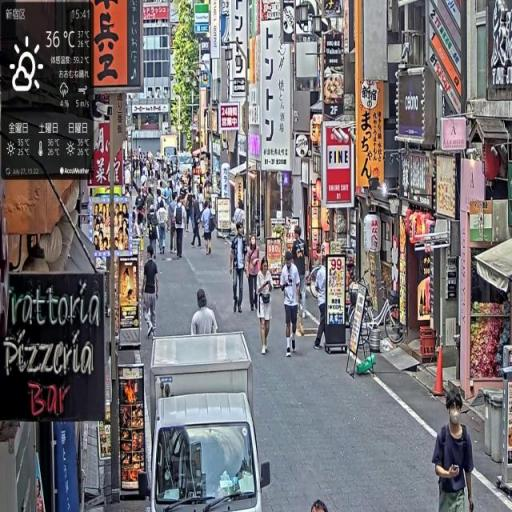person: (432, 385, 477, 512), (280, 251, 303, 358), (230, 220, 250, 317), (257, 255, 275, 358), (312, 253, 330, 353), (292, 226, 311, 319), (191, 286, 222, 337), (143, 248, 160, 336), (247, 231, 262, 316), (201, 201, 216, 258), (175, 196, 188, 261), (157, 196, 170, 258), (190, 195, 203, 250), (235, 199, 248, 242)
